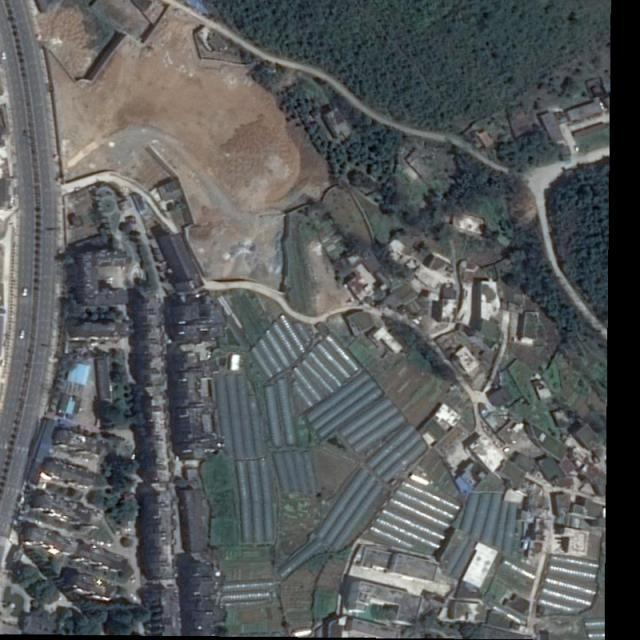vehicle: (20, 286, 29, 298), (18, 328, 26, 341), (1, 50, 7, 62)
